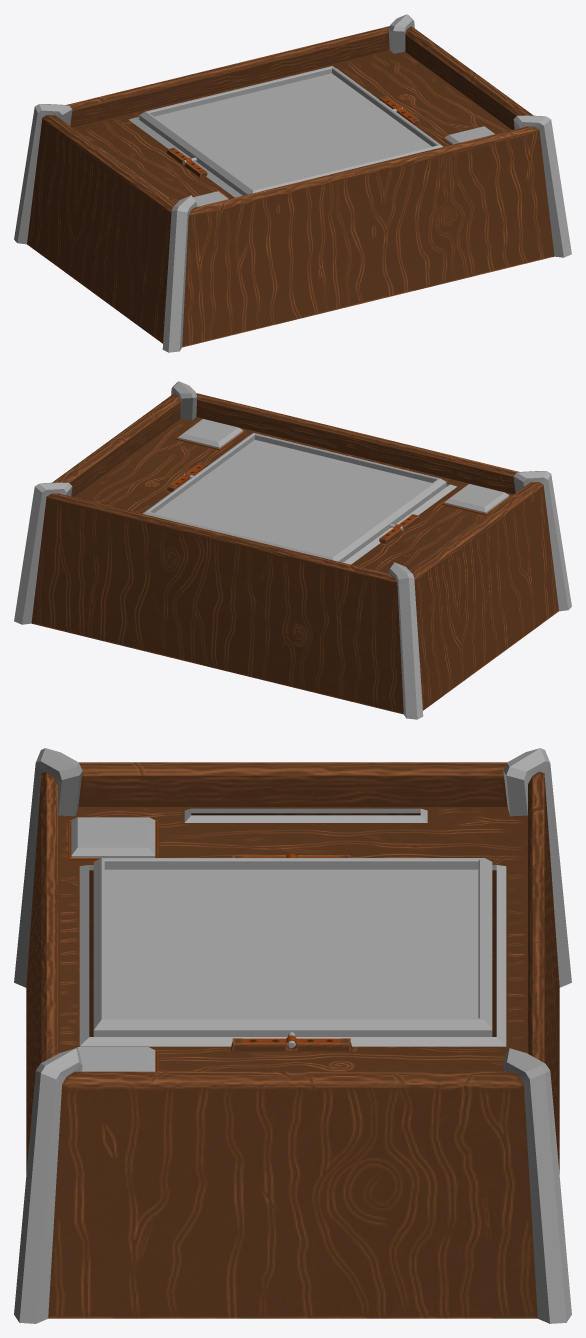
File: EZ_OuterBoardV4.fbx
3 views of the same model, one above another, from view 1: azimuth 30°, elevation 25°; view 2: azimuth 150°, elevation 25°; view 3: azimuth 270°, elevation 25° (orthographic). The views are drawn at different scales.
Parts seen in each view (by area): view 1: Base, SpinFrame, PauseButtons; view 2: Base, SpinFrame, PauseButtons; view 3: Base, SpinFrame, PauseButtons.
Part boxes in pixels (x1=…): Base: x1=14, y1=14, x2=571, y2=352; SpinFrame: x1=139, y1=66, x2=442, y2=195; PauseButtons: x1=176, y1=126, x2=495, y2=206; Base: x1=14, y1=381, x2=571, y2=719; SpinFrame: x1=143, y1=433, x2=446, y2=562; PauseButtons: x1=175, y1=419, x2=511, y2=514; Base: x1=14, y1=748, x2=571, y2=1323; SpinFrame: x1=93, y1=858, x2=492, y2=1048; PauseButtons: x1=68, y1=817, x2=158, y2=1071.
Bounding box in the file's own units: 702 × 226 × 472.
